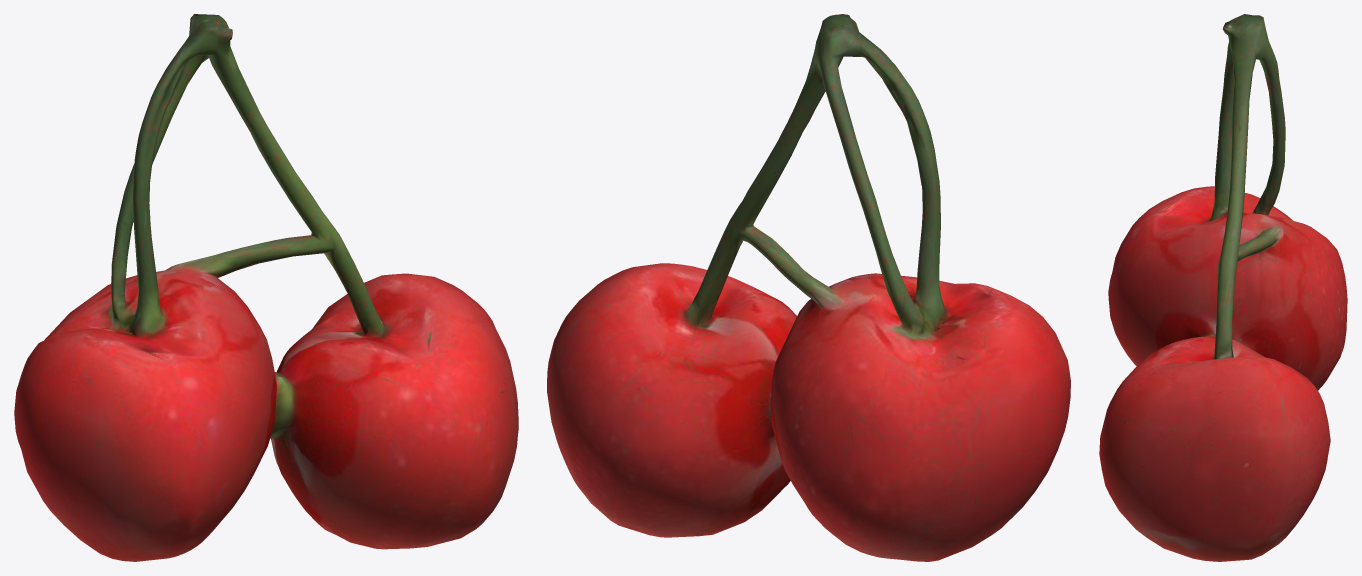
The model's file is Sprite_A.glb.
The picture shows the model from 3 angles, left to right: view 1: azimuth 30°, elevation 25°; view 2: azimuth 150°, elevation 25°; view 3: azimuth 270°, elevation 25°; orthographic projection. The views are drawn at different scales.
Size of the model in its own units: 1.8 by 2 by 0.9736.
Materials: 1 (1 with a texture image).
